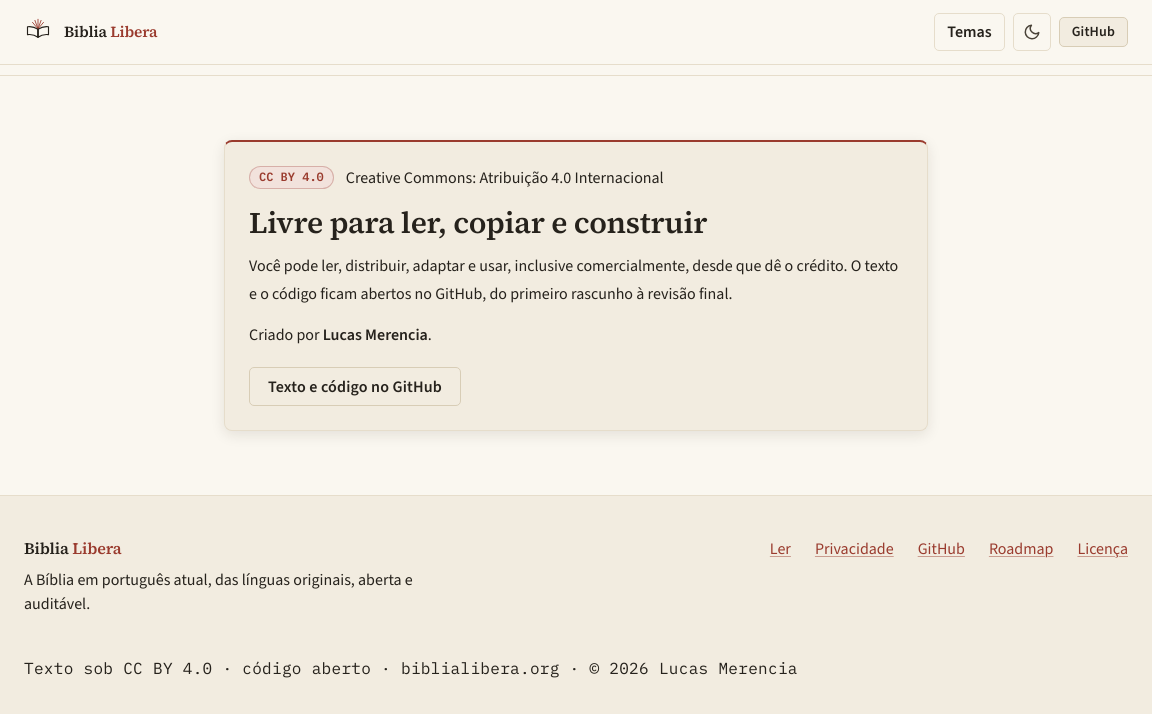
it: App routing › opens the privacy policy from the shared footer
This screenshot has width=1152, height=714.
(page scrolled)
Click the link "Privacidade": (854, 550) [815,538,894,562]
(page scrolled)
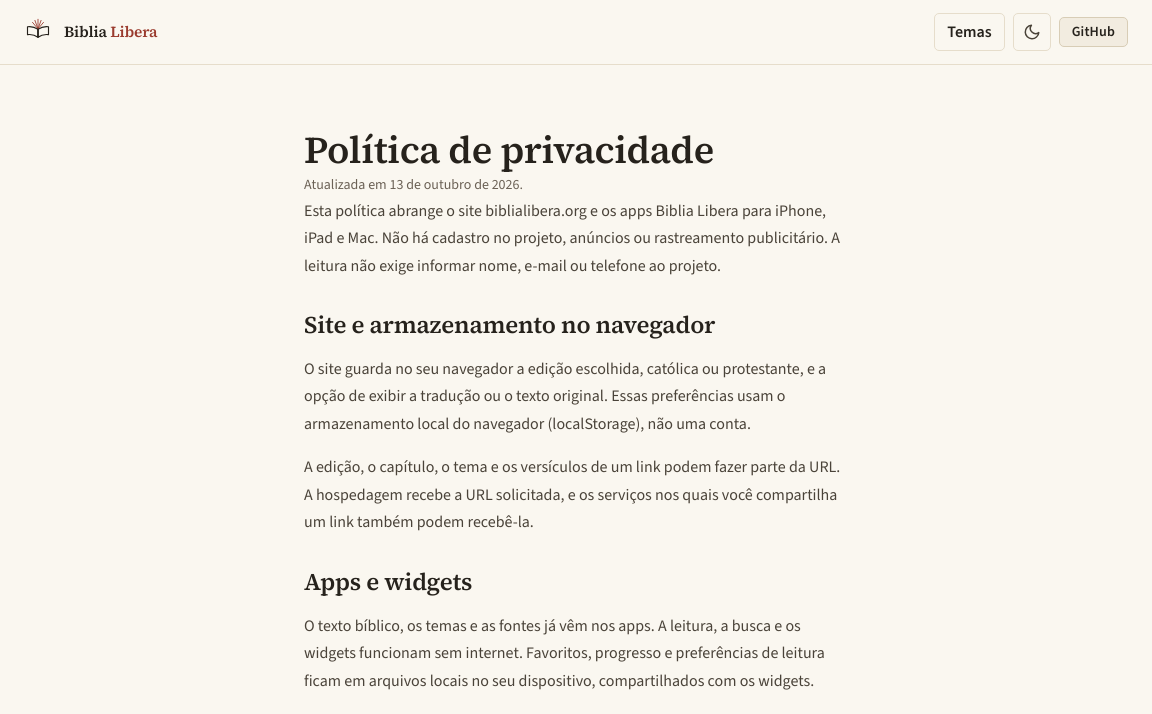
expect the heading "Política de privacidade" is shown: met, box [304,124,714,176]
